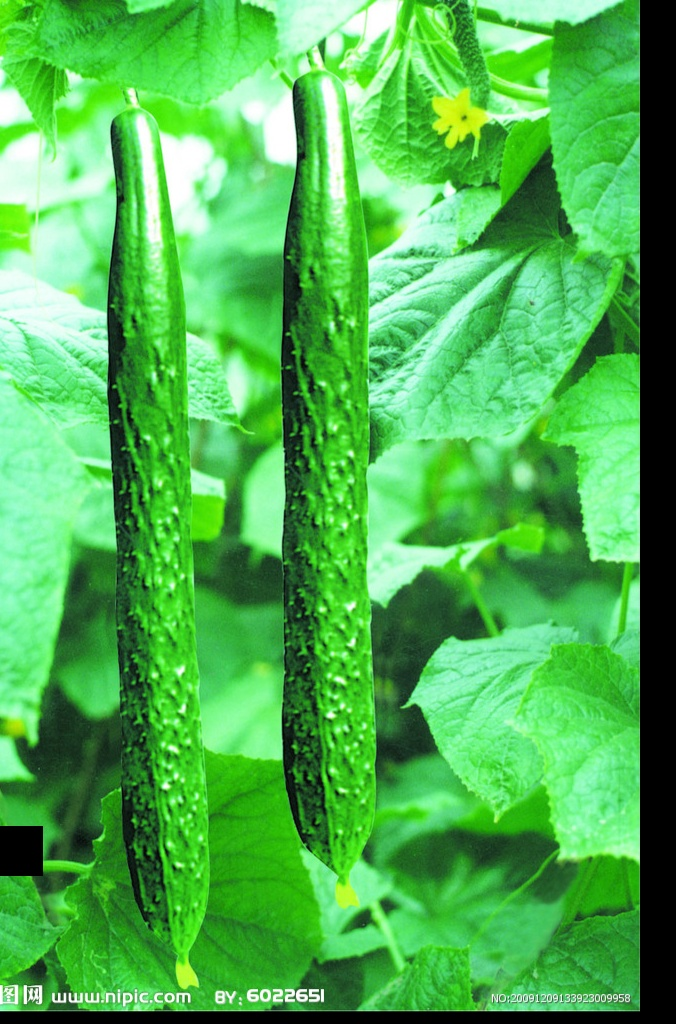cucumber: (107, 110, 217, 965), (279, 70, 385, 886)
cucumber_plant: (388, 29, 628, 420)
